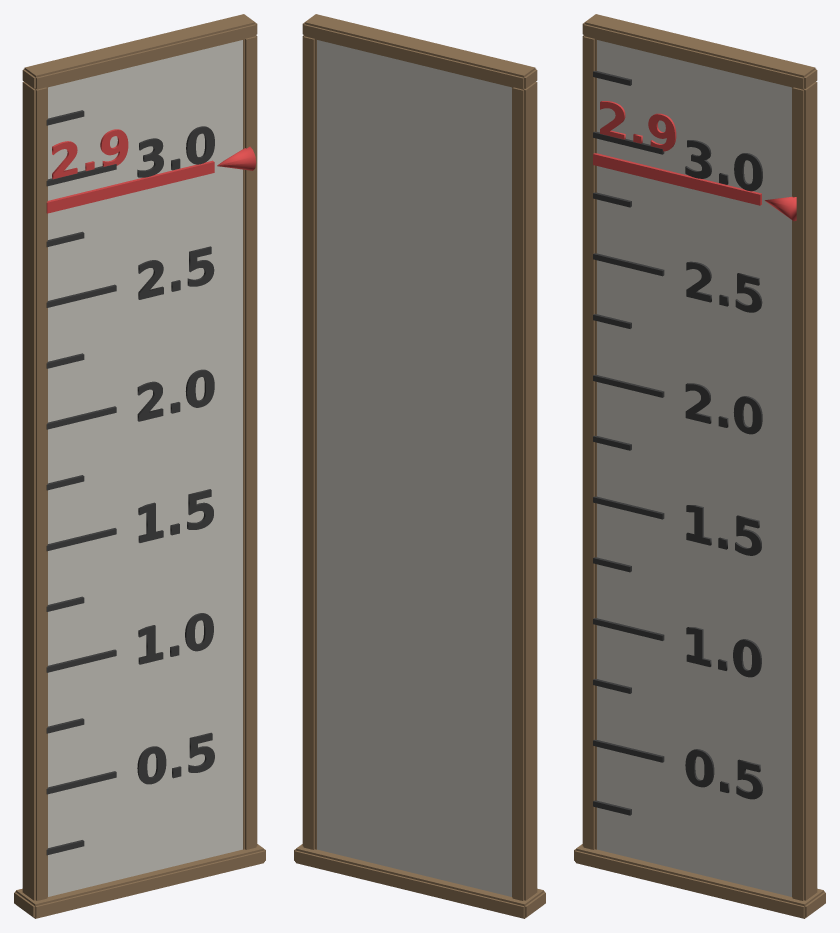
The model's file is height_gauge.glb.
3 views of the same model, side by side, from view 1: azimuth 30°, elevation 25°; view 2: azimuth 150°, elevation 25°; view 3: azimuth 330°, elevation 25° (orthographic).
Parts seen in each view (by area): view 1: Panel, FrameL, FrameR, FrameT, Foot, RedLine, Label0.5, Label2.0, Label3.0, Label2.5, Label1.0, Label29 (+7 smaller); view 2: Panel, FrameL, FrameR, FrameT, Foot; view 3: Panel, FrameR, FrameL, FrameT, Foot, RedLine, Label0.5, Label2.0, Label3.0, Label2.5, Label1.0, Label1.5 (+6 smaller).
Boxes of the visible parts, x1=… form: Panel: x1=48, y1=40, x2=242, y2=896; FrameL: x1=22, y1=81, x2=47, y2=900; FrameR: x1=243, y1=35, x2=257, y2=849; FrameT: x1=22, y1=14, x2=257, y2=88; Foot: x1=14, y1=844, x2=265, y2=918; RedLine: x1=46, y1=160, x2=214, y2=213; Label0.5: x1=137, y1=732, x2=214, y2=784; Label2.0: x1=137, y1=369, x2=214, y2=421; Label3.0: x1=137, y1=126, x2=214, y2=177; Label2.5: x1=138, y1=246, x2=214, y2=299; Label1.0: x1=138, y1=613, x2=213, y2=664; Label29: x1=52, y1=129, x2=128, y2=179; Panel: x1=317, y1=40, x2=511, y2=896; FrameL: x1=512, y1=81, x2=537, y2=900; FrameR: x1=302, y1=35, x2=316, y2=849; FrameT: x1=302, y1=14, x2=537, y2=89; Foot: x1=294, y1=844, x2=545, y2=918; Panel: x1=597, y1=40, x2=791, y2=896; FrameR: x1=792, y1=81, x2=817, y2=900; FrameL: x1=582, y1=35, x2=596, y2=849; FrameT: x1=582, y1=14, x2=817, y2=89; Foot: x1=574, y1=844, x2=825, y2=918; RedLine: x1=593, y1=153, x2=761, y2=205; Label0.5: x1=685, y1=749, x2=762, y2=799; Label2.0: x1=685, y1=383, x2=762, y2=434; Label3.0: x1=685, y1=140, x2=762, y2=191; Label2.5: x1=686, y1=261, x2=762, y2=312; Label1.0: x1=686, y1=627, x2=761, y2=677; Label1.5: x1=686, y1=505, x2=761, y2=555.
Bounding box in the file's own units: 1 × 3.45 × 0.176.
